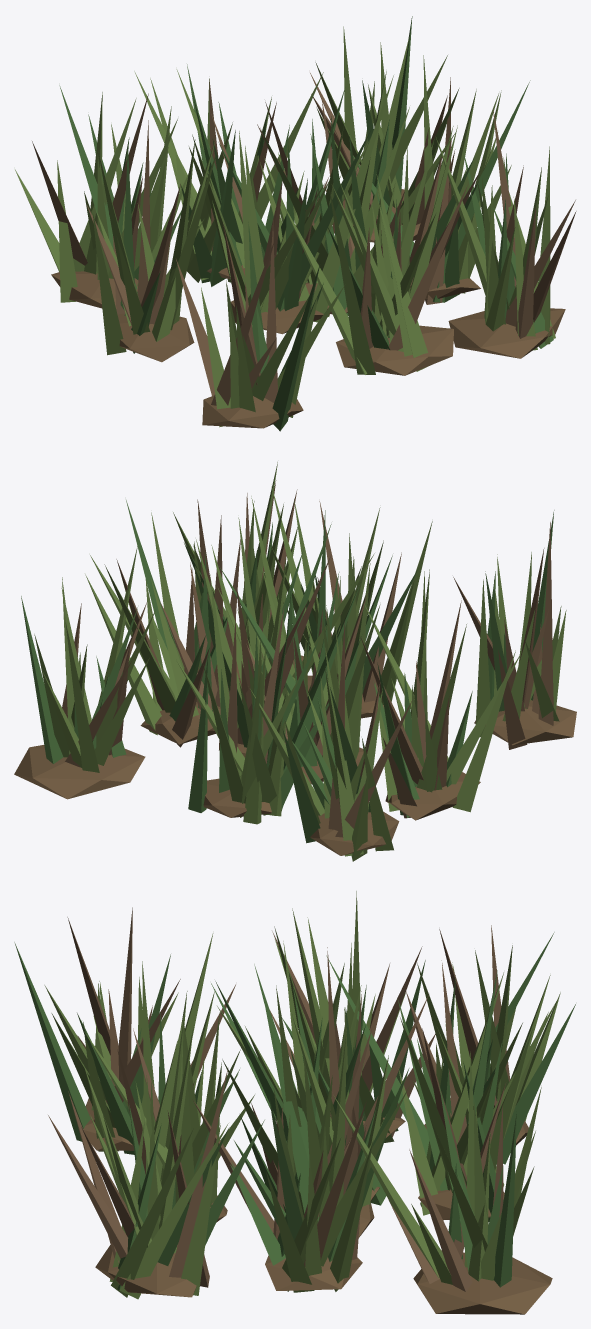
File: grass_tall_patch.glb
3 views of the same model, one above another, from view 1: azimuth 30°, elevation 25°; view 2: azimuth 150°, elevation 25°; view 3: azimuth 270°, elevation 25° (orthographic). The views are drawn at different scales.
Visible parts, largest first — view 1: grass_tall_patch; view 2: grass_tall_patch; view 3: grass_tall_patch.
Boxes of the visible parts, x1,y1,x2,y2 form: grass_tall_patch: (15, 16, 576, 431); grass_tall_patch: (14, 462, 576, 861); grass_tall_patch: (14, 891, 575, 1314).
Bounding box in the file's own units: 2.07 × 1.14 × 2.17.
Materials: 1 (1 with a texture image).
